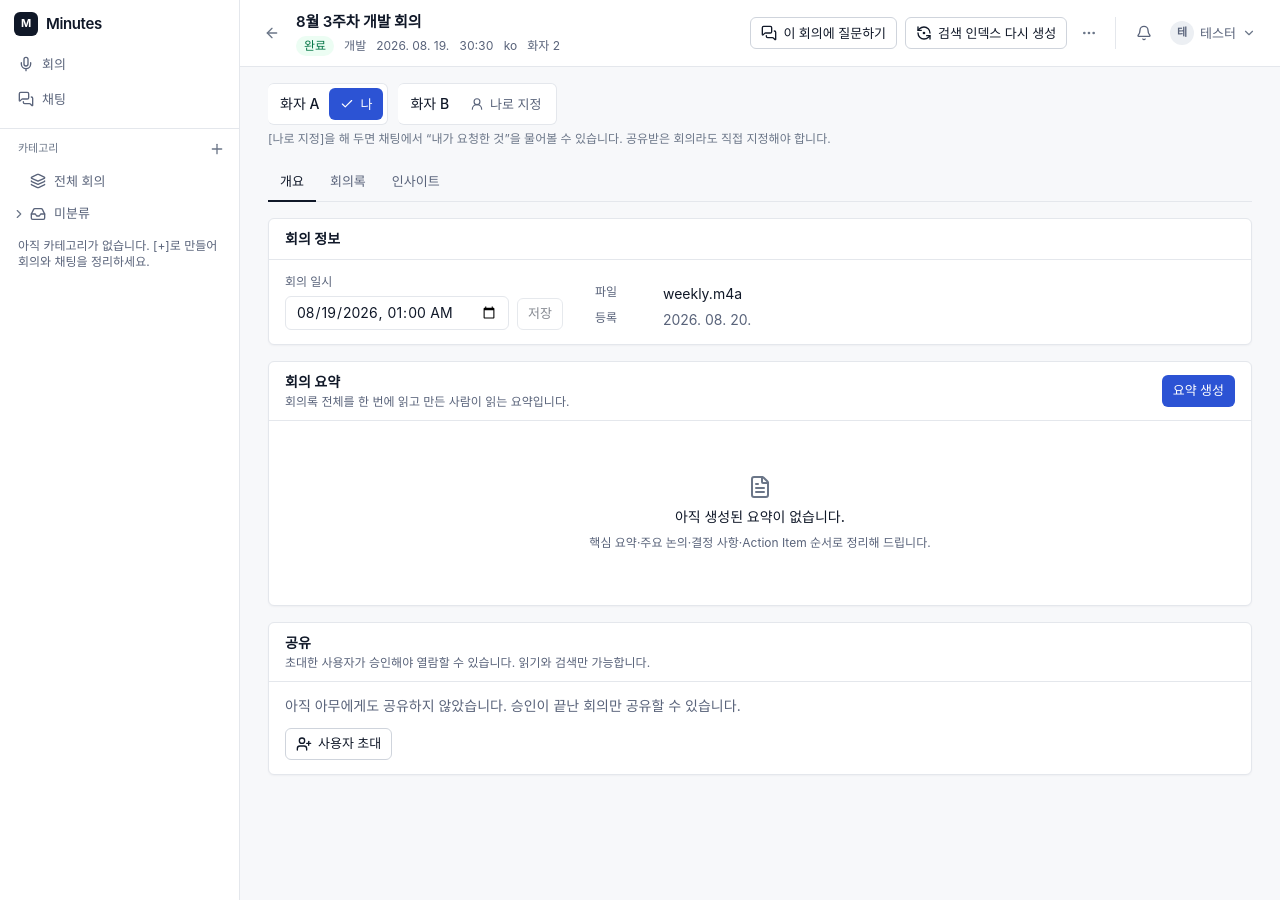
Test case: 공유 관리 (소유자) › 검색어를 입력하기 전에는 사용자 목록을 요청하지 않는다
This screenshot has width=1280, height=900.
Click the button "사용자 초대" at (339, 744), box [285,728,392,760]
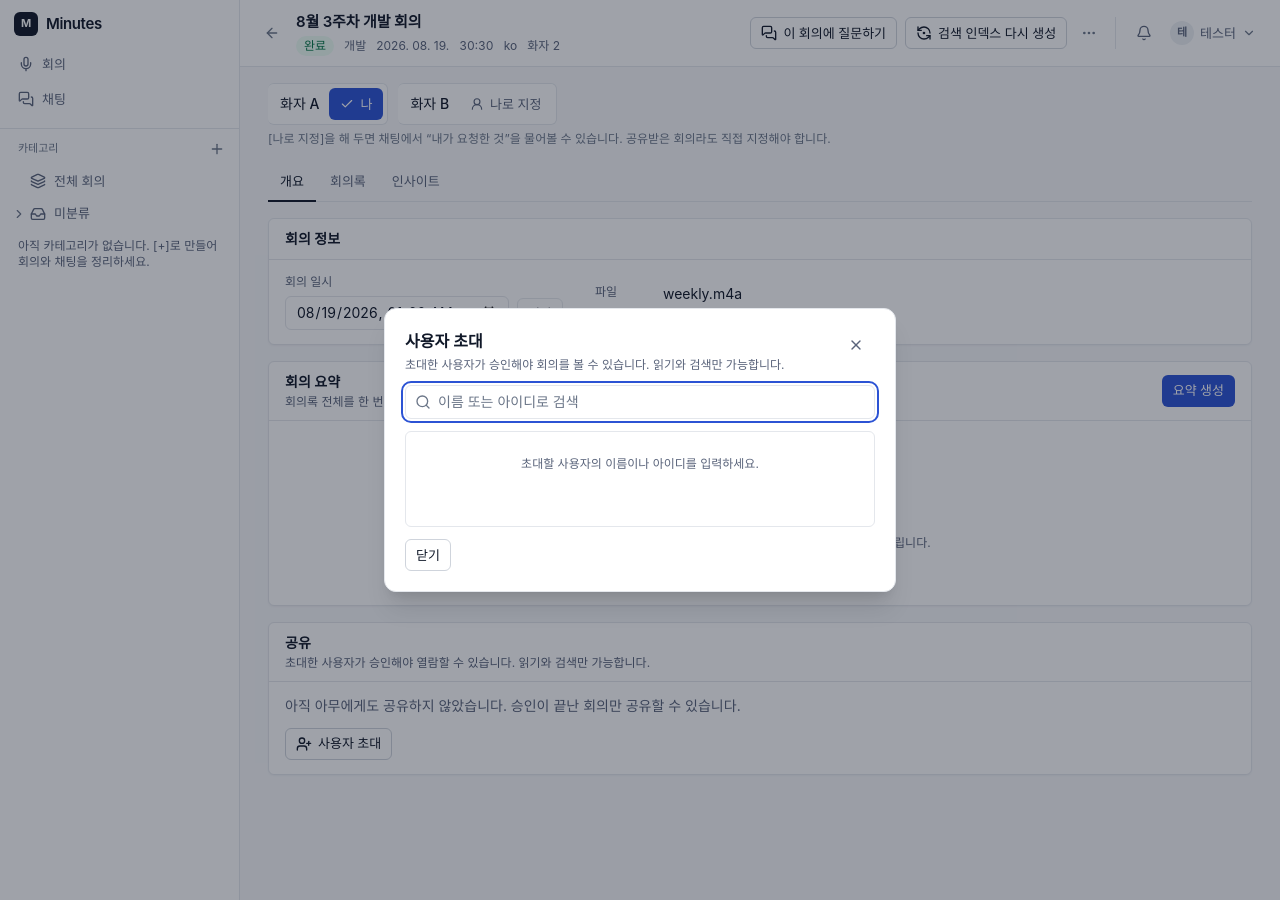
Result: the text "초대할 사용자의 이름이나 아이디를 입력하세요." is shown at [521,456,759,471]
